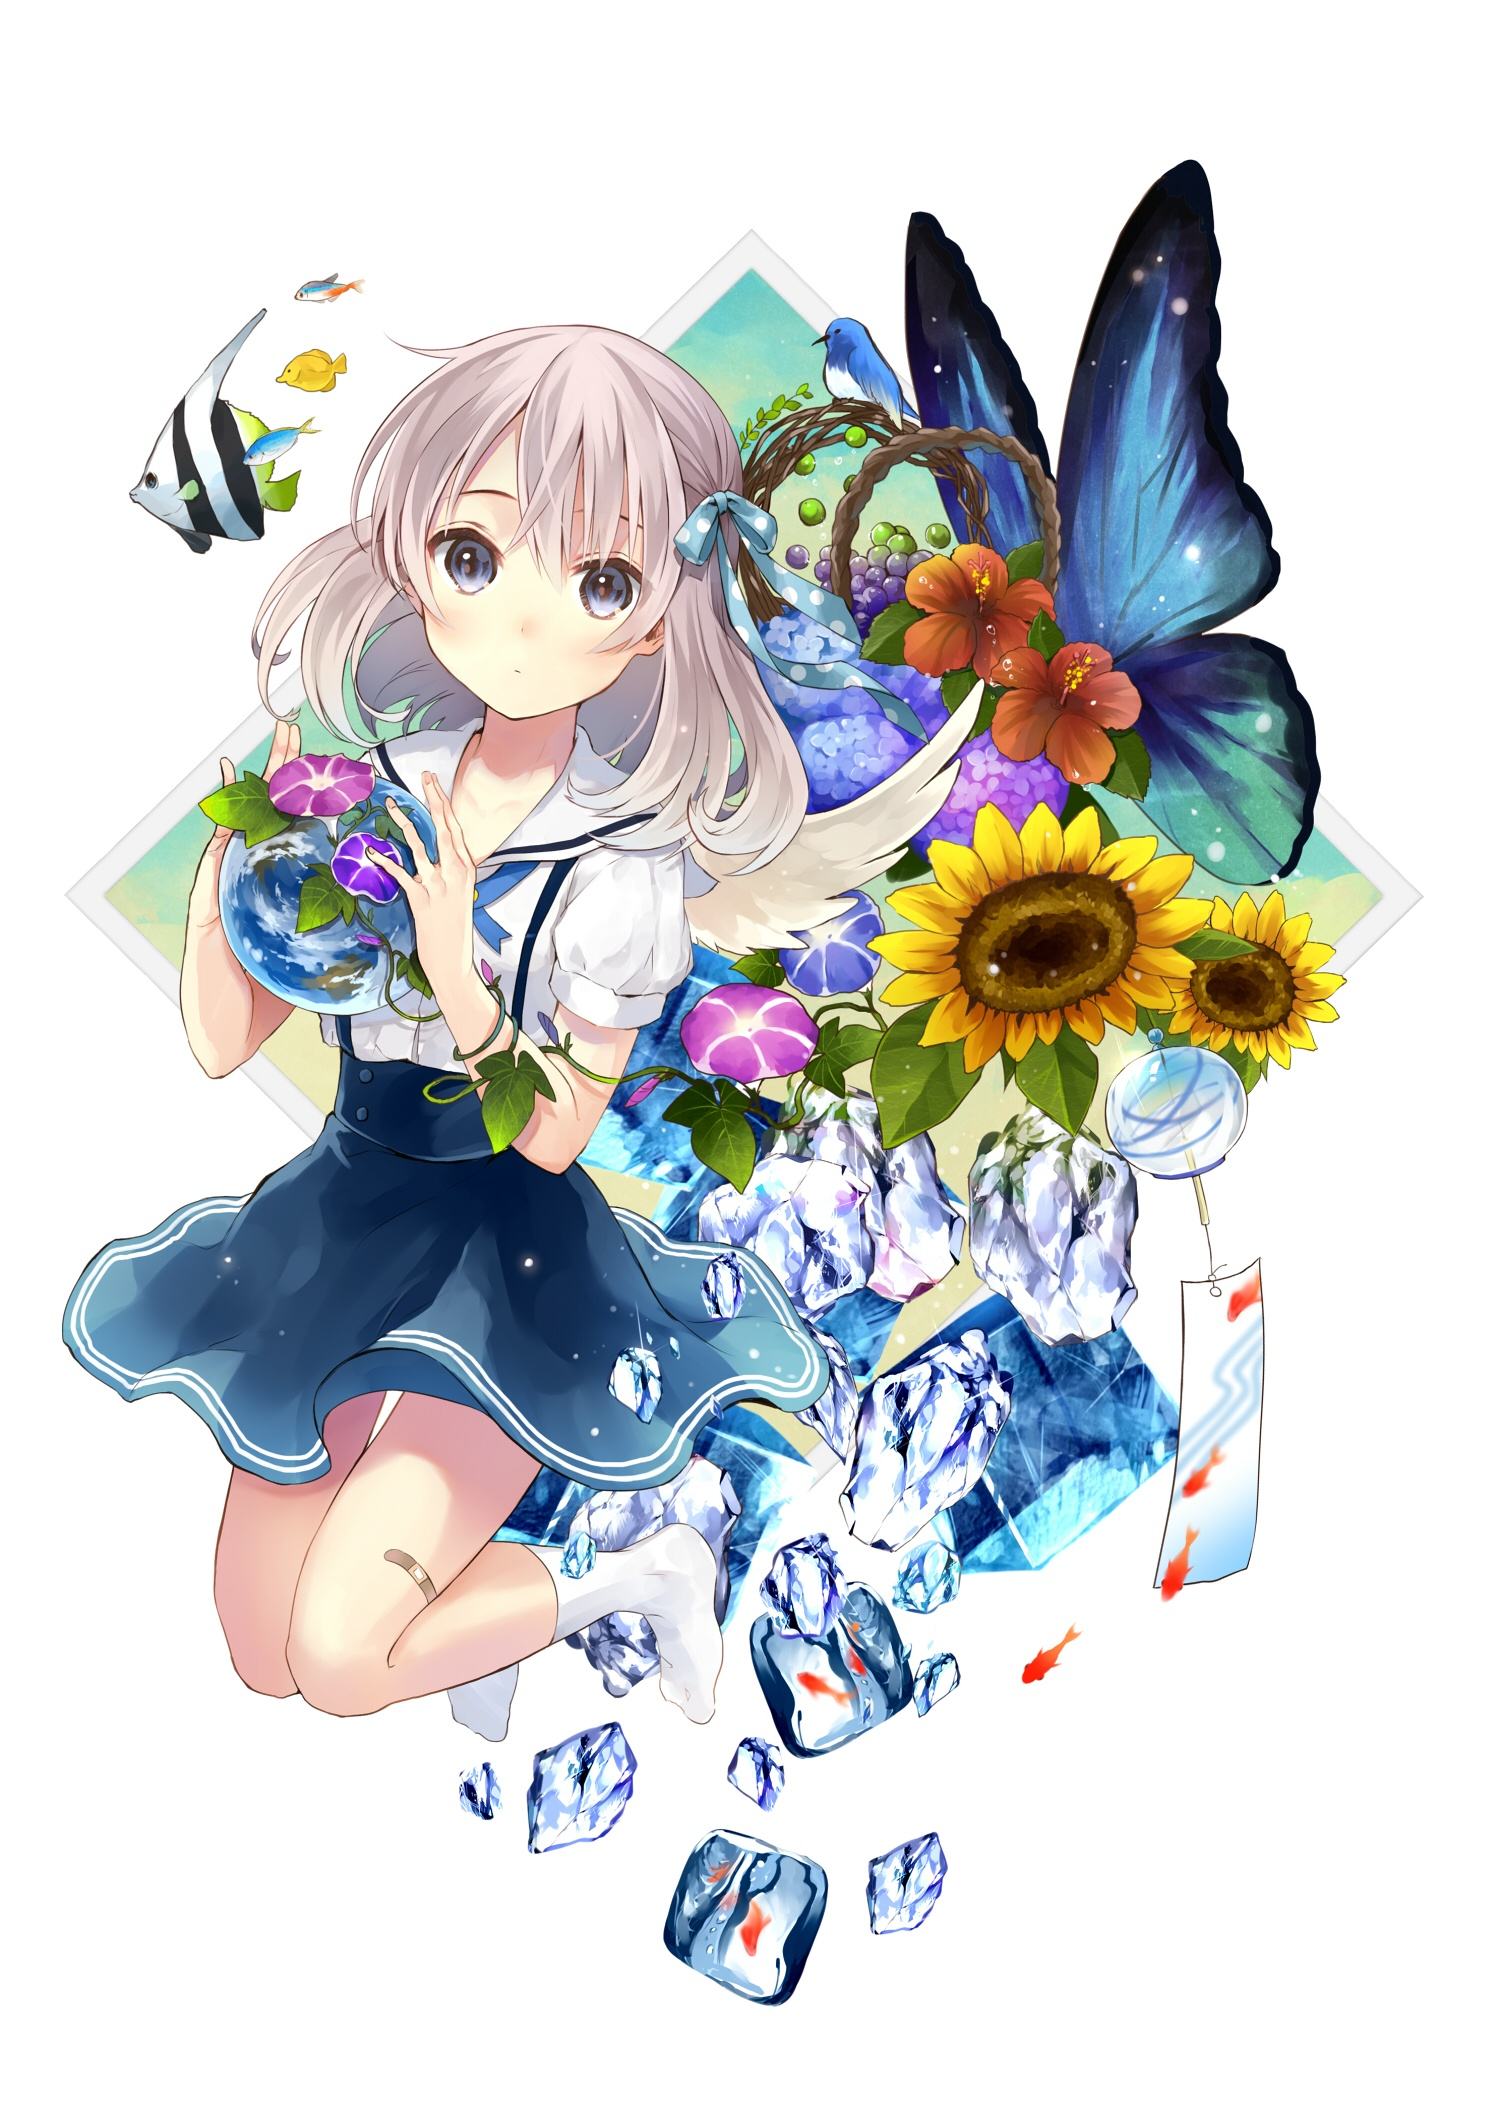纸片人正脸: (320, 305, 758, 742)
